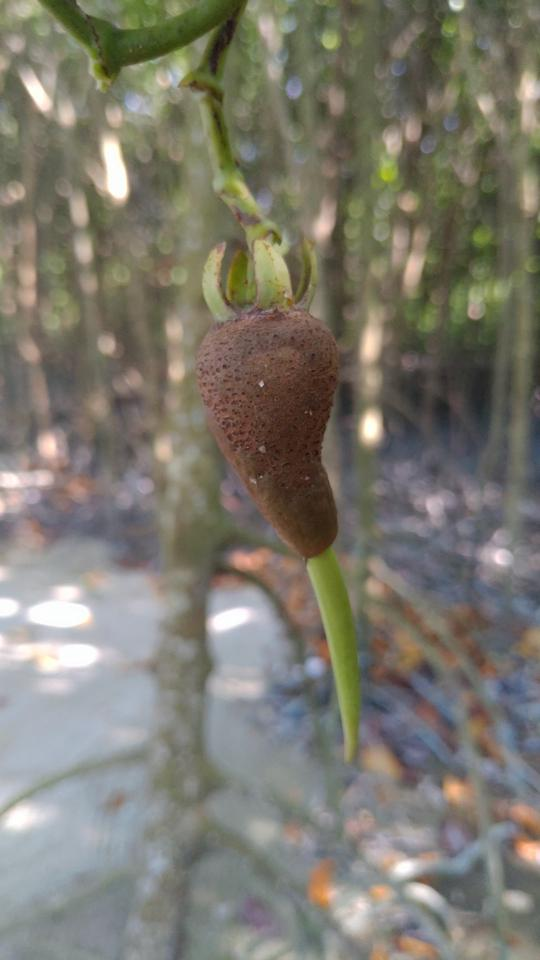mentah: (175, 222, 378, 780)
